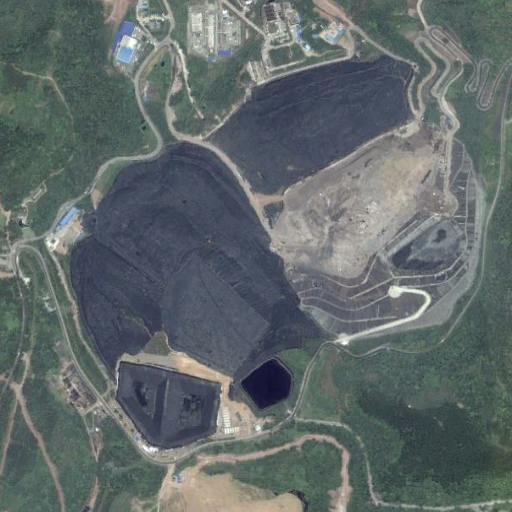lf: (69, 58, 476, 373)
